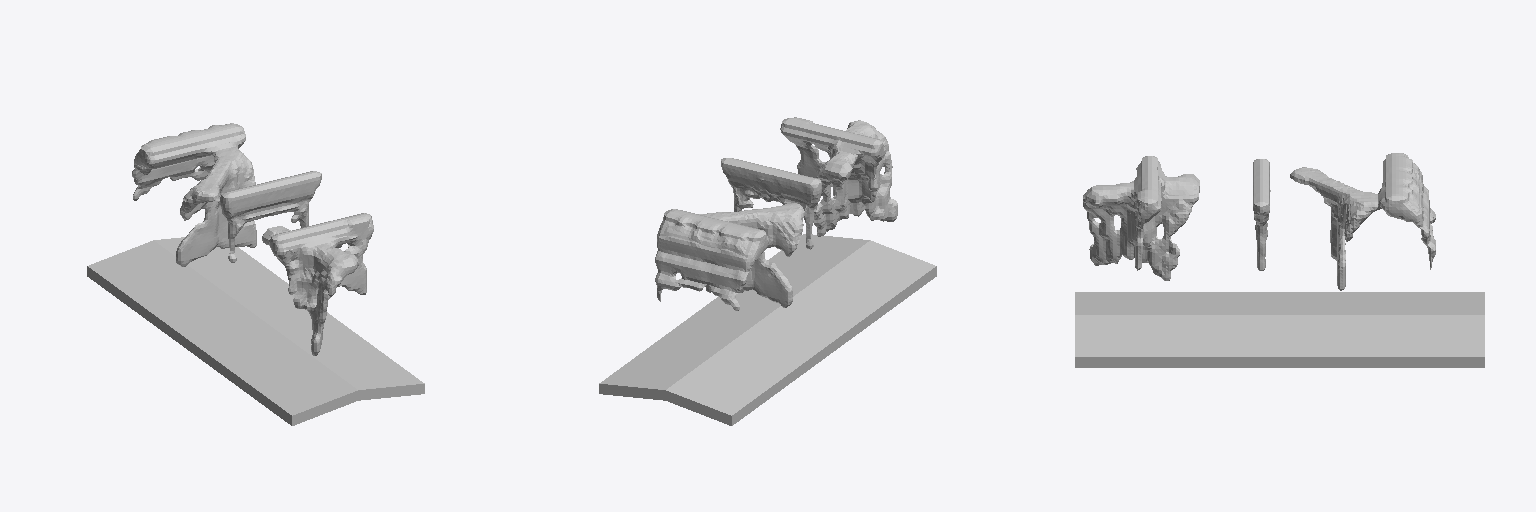
The model's file is Watersim_000014.obj.
The picture shows the model from 3 angles: view 1: azimuth 30°, elevation 25°; view 2: azimuth 150°, elevation 25°; view 3: azimuth 270°, elevation 25°; orthographic projection.
Visible parts, largest first — view 1: Straße_Cube.007, Domain_Cube.006; view 2: Straße_Cube.007, Domain_Cube.006; view 3: Straße_Cube.007, Domain_Cube.006.
Part boxes in pixels (left/top/right/bottom): Straße_Cube.007: left=87, top=237, right=424, bottom=425; Domain_Cube.006: left=132, top=123, right=373, bottom=355; Straße_Cube.007: left=599, top=234, right=936, bottom=425; Domain_Cube.006: left=655, top=117, right=897, bottom=310; Straße_Cube.007: left=1075, top=292, right=1484, bottom=367; Domain_Cube.006: left=1083, top=153, right=1435, bottom=290.
Size of the model in its own units: 2.26 by 2.59 by 6.06.